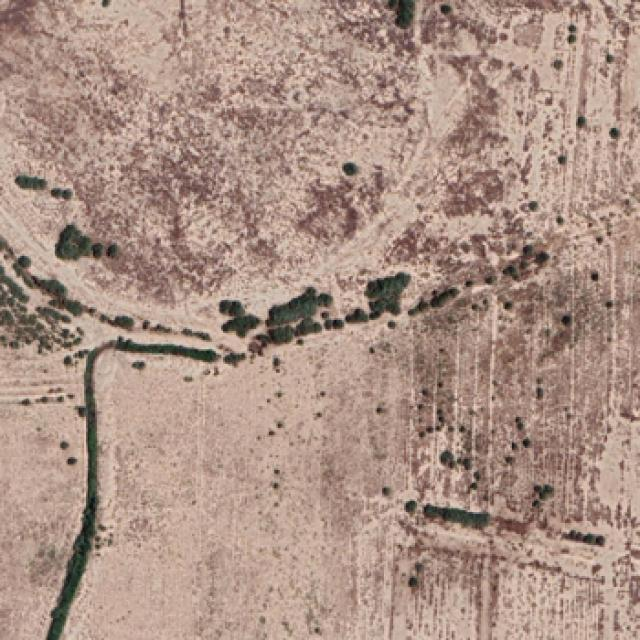ruins: (136, 29, 382, 151), (136, 467, 276, 591)
vegetation: (363, 474, 494, 552), (226, 310, 330, 345), (54, 225, 101, 260)
